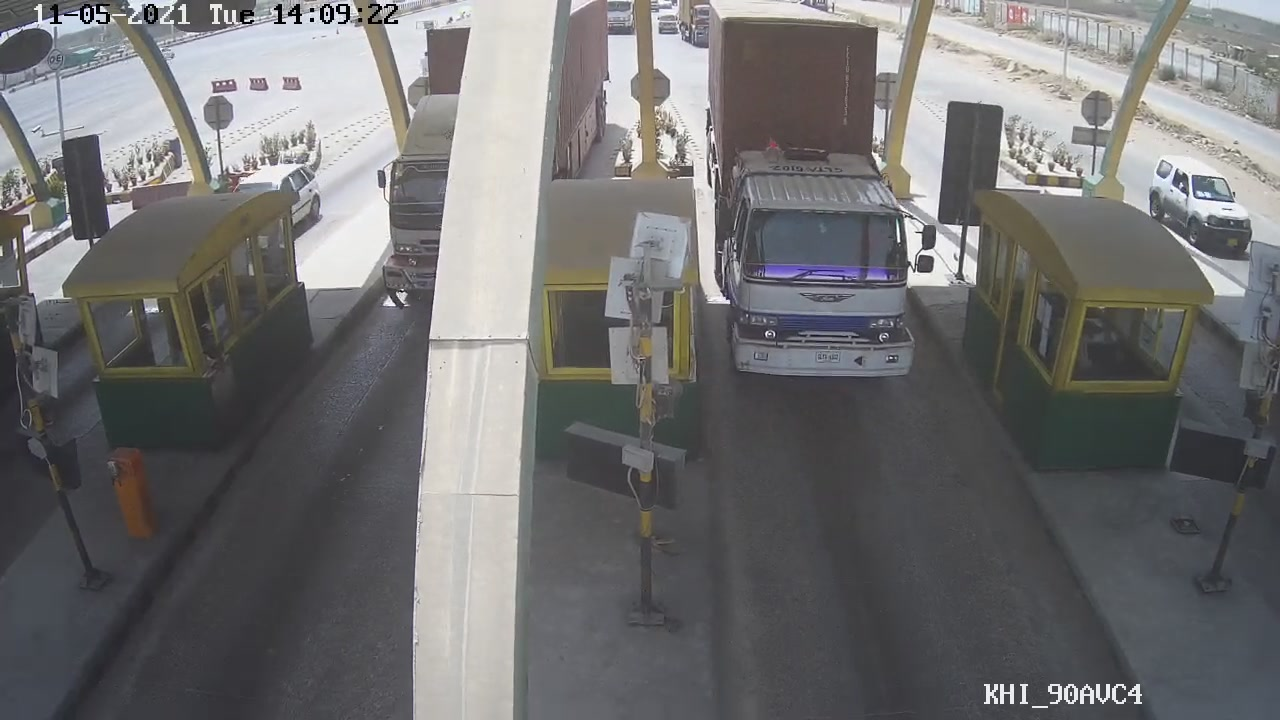F6: (703, 17, 942, 385)
